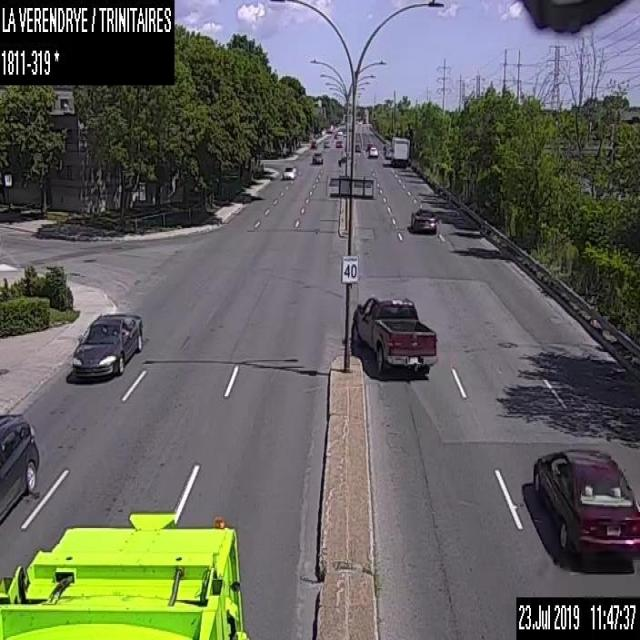vehicle: (0, 506, 248, 638), (529, 444, 639, 557), (349, 290, 437, 382), (69, 309, 144, 383), (0, 410, 40, 522), (410, 207, 436, 232), (390, 135, 410, 166), (282, 166, 296, 179), (311, 151, 323, 164), (369, 145, 377, 156), (384, 144, 390, 158), (366, 140, 376, 148), (354, 142, 361, 152), (310, 138, 316, 148), (323, 138, 330, 146), (335, 140, 342, 146)
